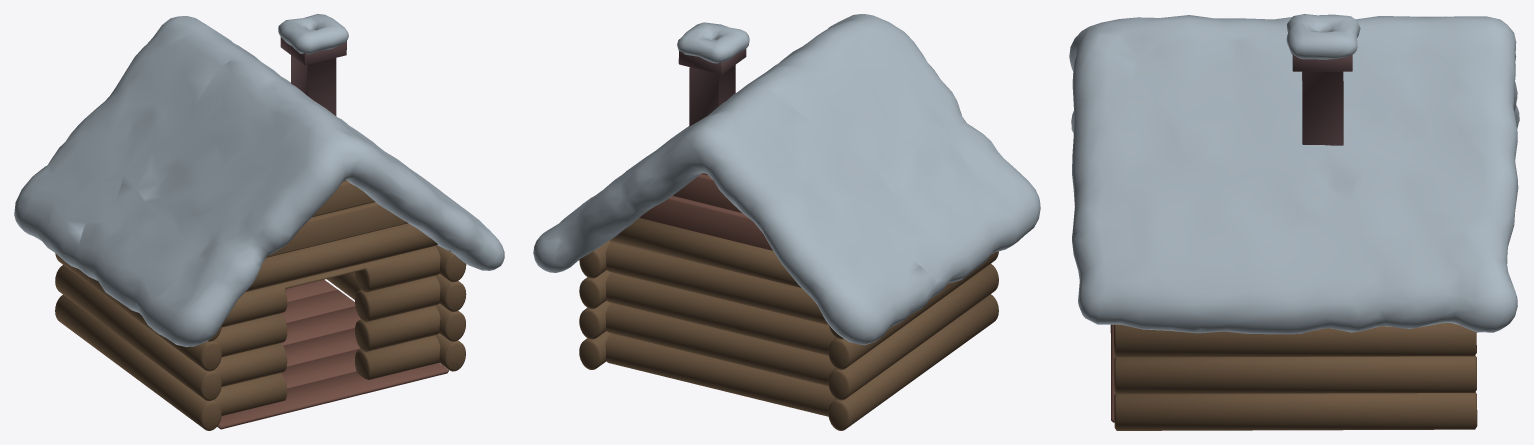
The model's file is House_3.fbx.
3 renders of one model, left to right at view 1: azimuth 30°, elevation 25°; view 2: azimuth 150°, elevation 25°; view 3: azimuth 270°, elevation 25°, orthographic. The views are drawn at different scales.
Visible parts, largest first — view 1: House; view 2: House; view 3: House.
Part boxes in pixels (<box>): House: <box>14,14,504,430</box>; House: <box>533,14,1040,430</box>; House: <box>1069,14,1519,430</box>.
Bounding box in the file's own units: 602 × 511 × 563.
